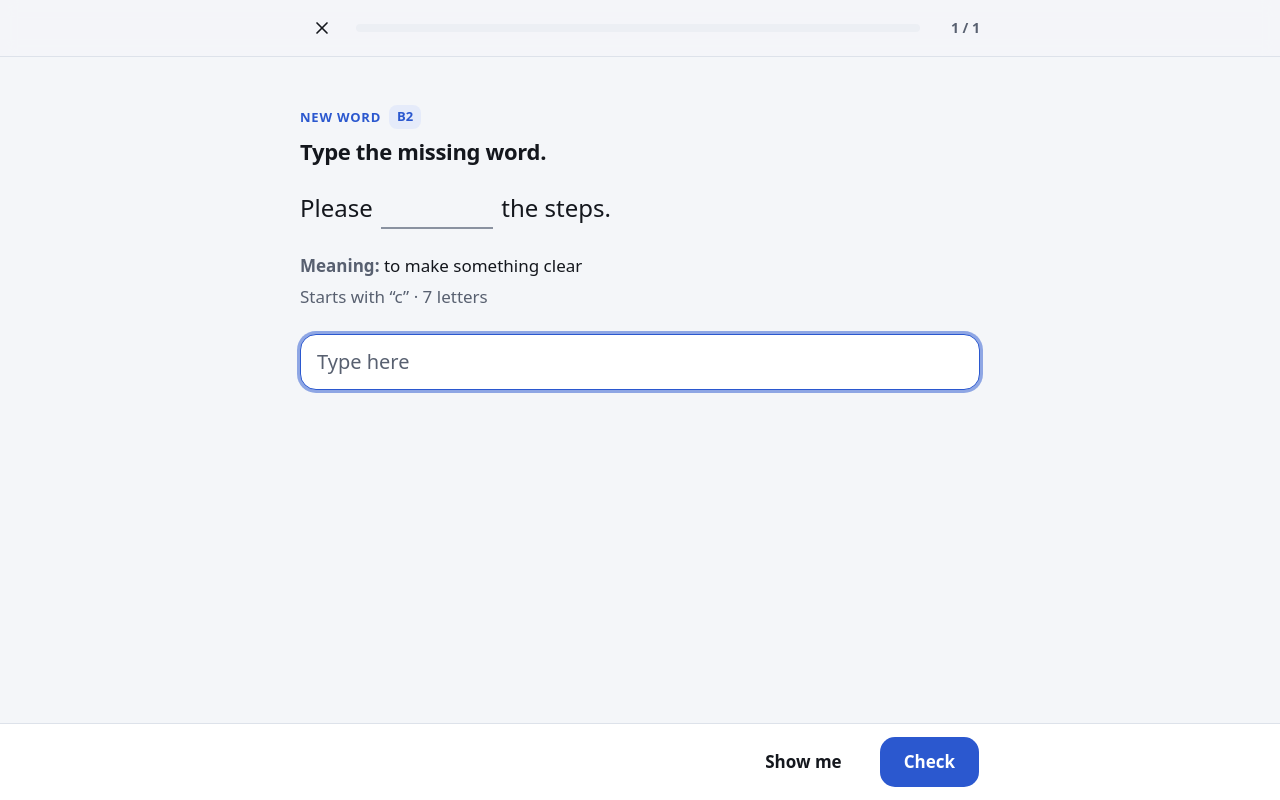
Test: RoundPlayer › gives up on a word to type with Show me
Click the button "Show me".
click(803, 762)  # box [740, 736, 867, 788]
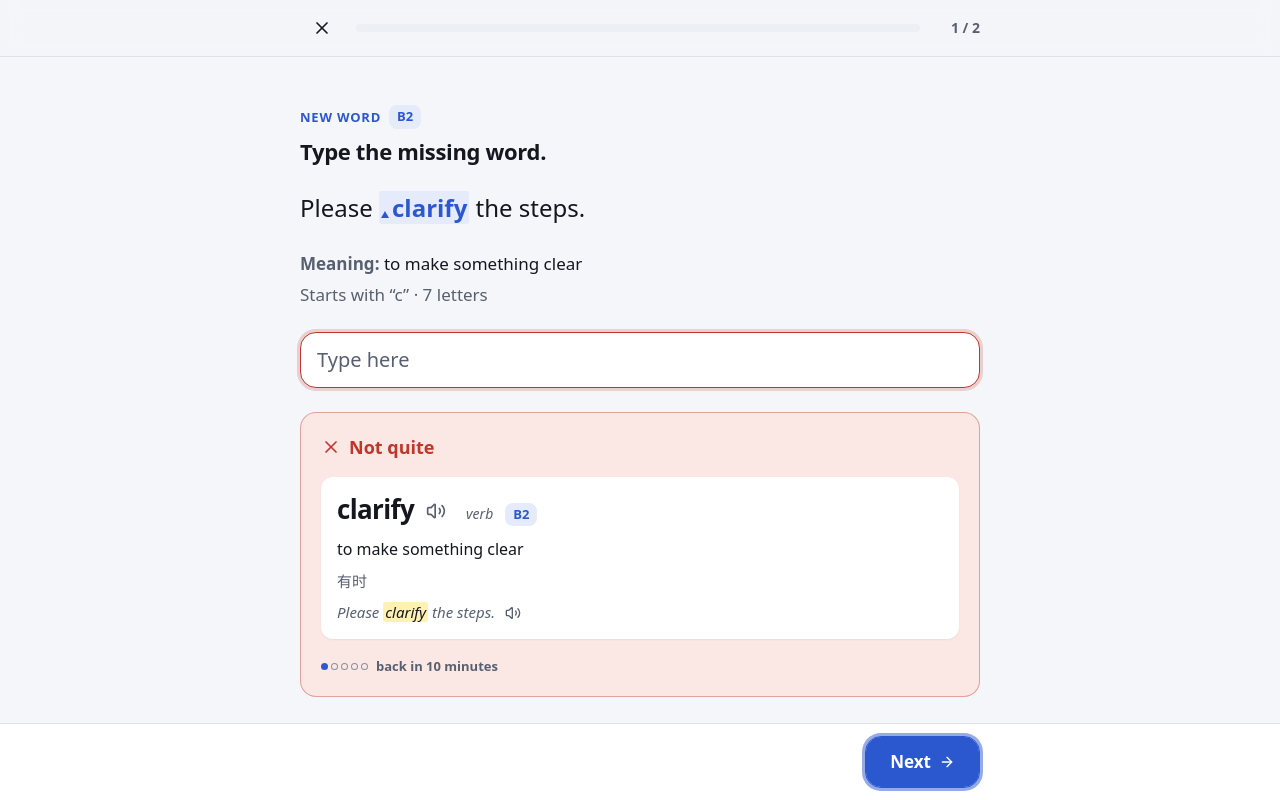
Now the text "Not quite" is shown, box [321, 434, 434, 458]
